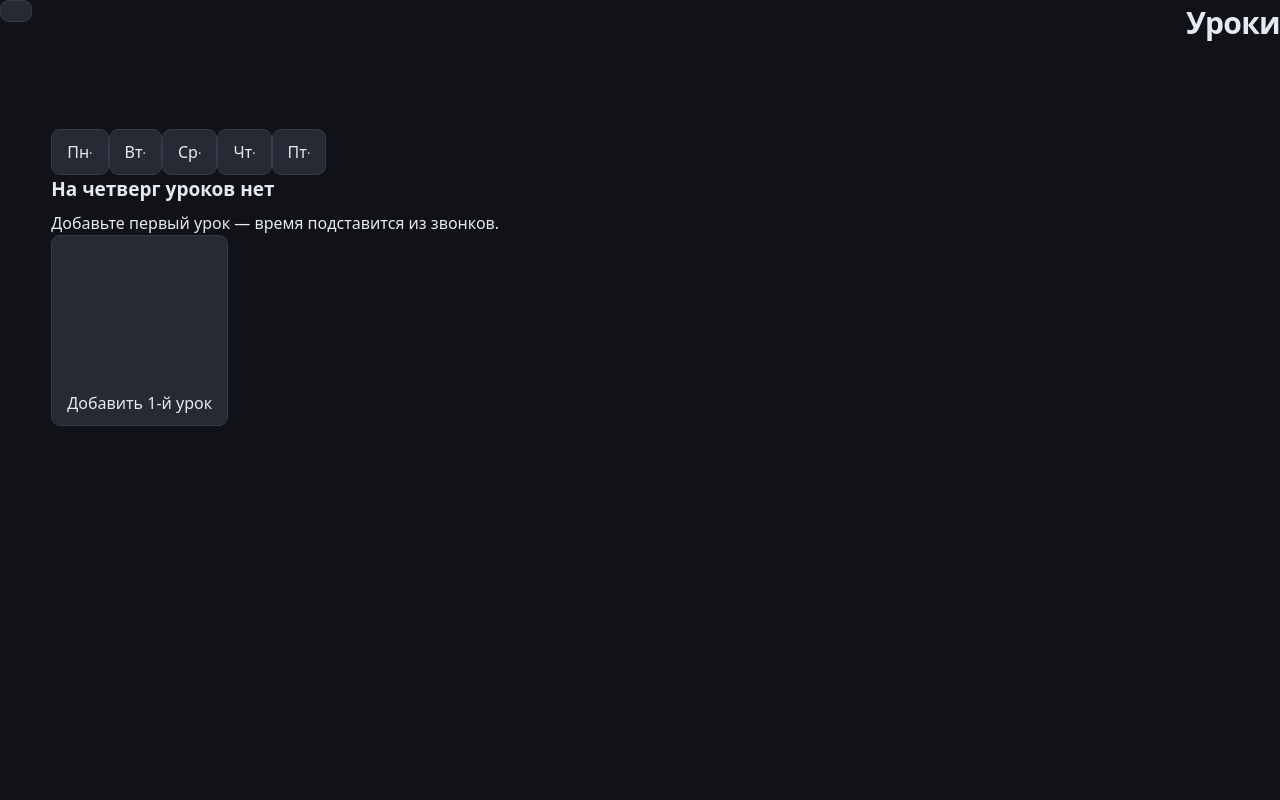
настройки на телефоне › новый урок без класса не сохраняется
The image size is (1280, 800).
Click the button "Добавить 1-й урок" at coordinates (140, 330), box [51,234,228,426]
(page scrolled)
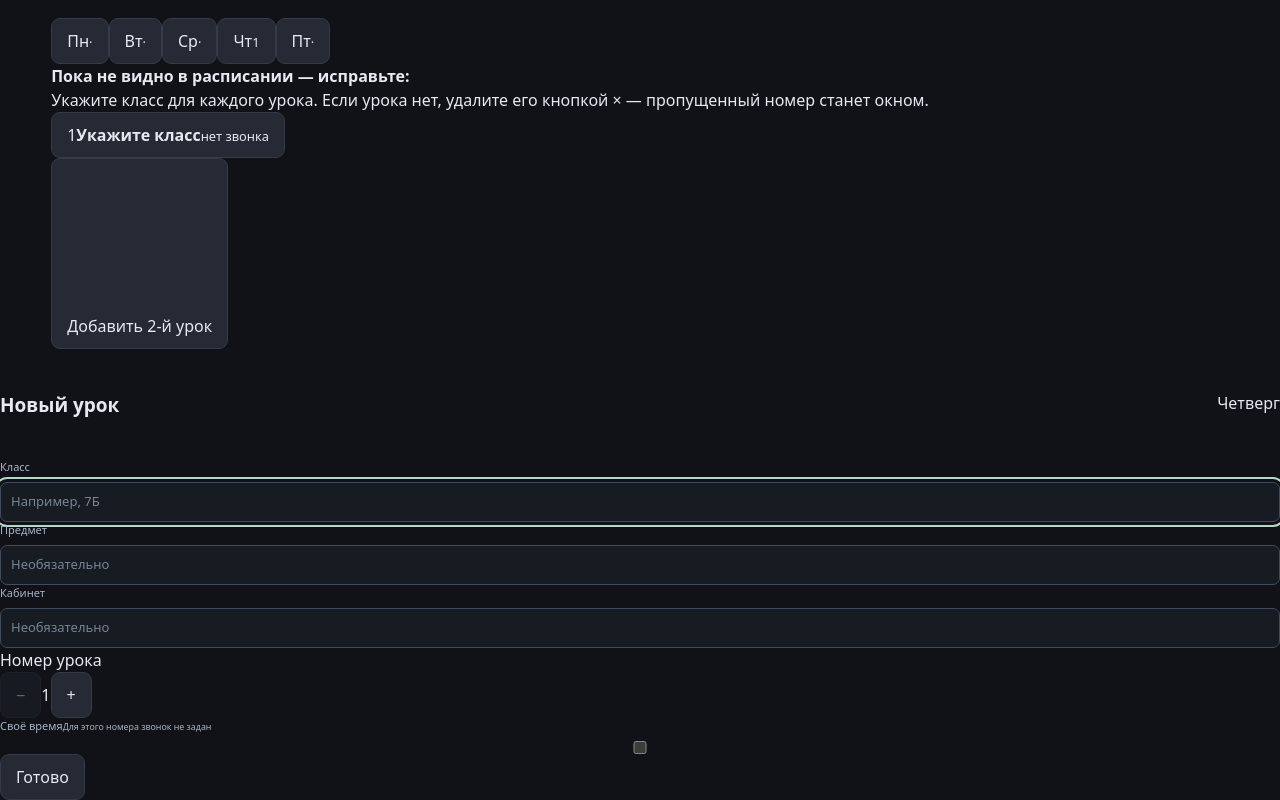
Click the button "Готово" at coordinates (42, 777), box [0,754,85,799]
(page scrolled)
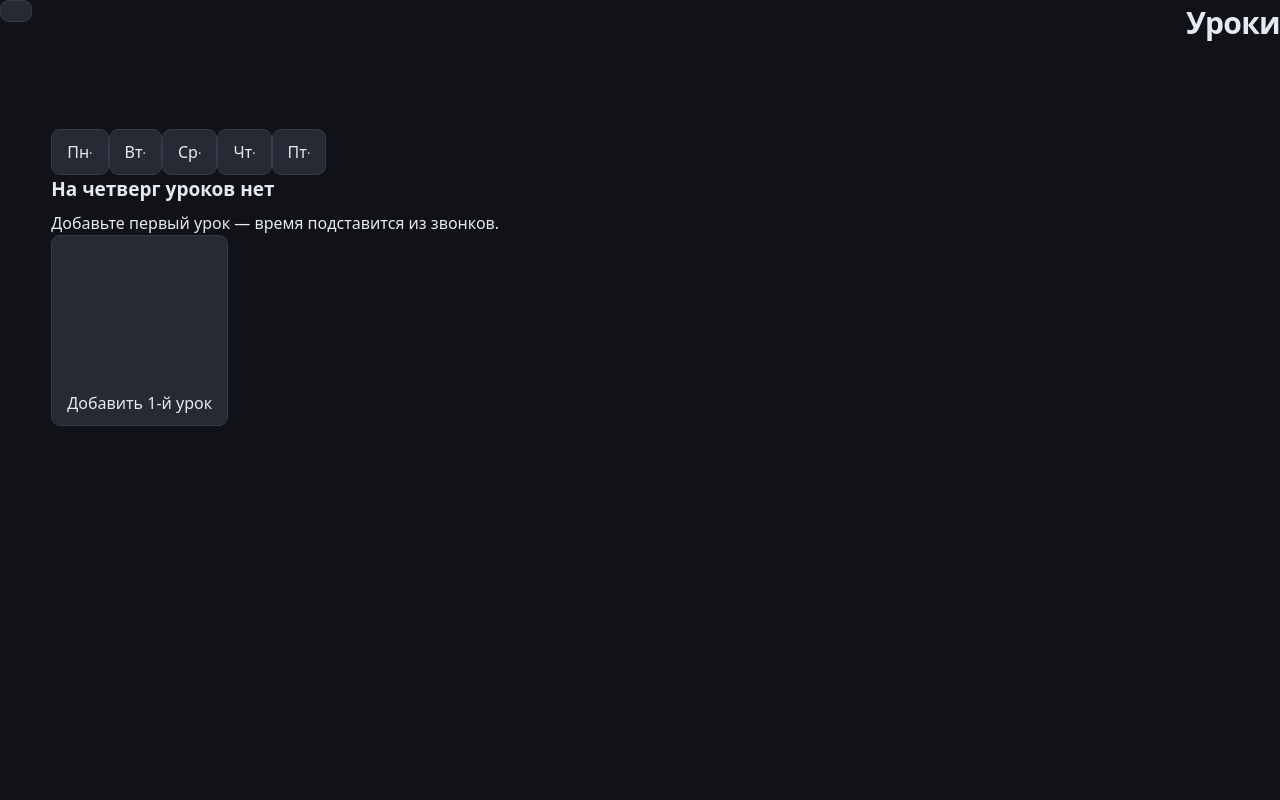
Result: the list item "Укажите класс" is gone
Result: the heading "На четверг уроков нет" is shown at [51,176,274,202]
